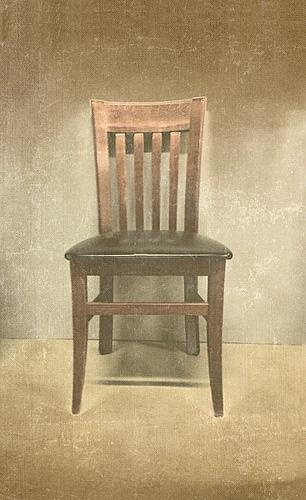obstacle: (65, 97, 231, 415)
